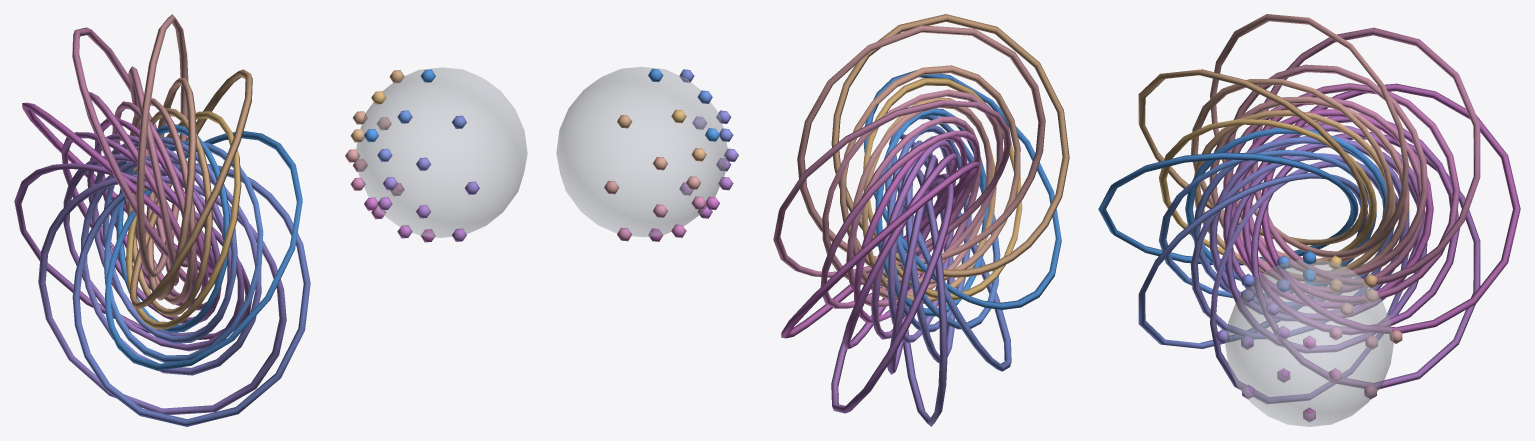
The model's file is example.gltf.
The picture shows the model from 3 angles, left to right: view 1: azimuth 30°, elevation 25°; view 2: azimuth 150°, elevation 25°; view 3: azimuth 270°, elevation 25°; orthographic projection.
Parts seen in each view (by area): view 1: hopf_fibres, base_sphere, base_points; view 2: hopf_fibres, base_sphere, base_points; view 3: hopf_fibres, base_sphere, base_points.
Part boxes in pixels (x1,y1,x2,y2): hopf_fibres: (14,14,310,426); base_sphere: (356,67,527,237); base_points: (345,69,479,242); hopf_fibres: (773,14,1069,426); base_sphere: (556,66,727,237); base_points: (604,68,738,241); hopf_fibres: (1098,14,1520,403); base_sphere: (1225,260,1393,426); base_points: (1216,251,1402,422).
Bounding box in the file's own units: 5.02 × 4.37 × 4.37.
